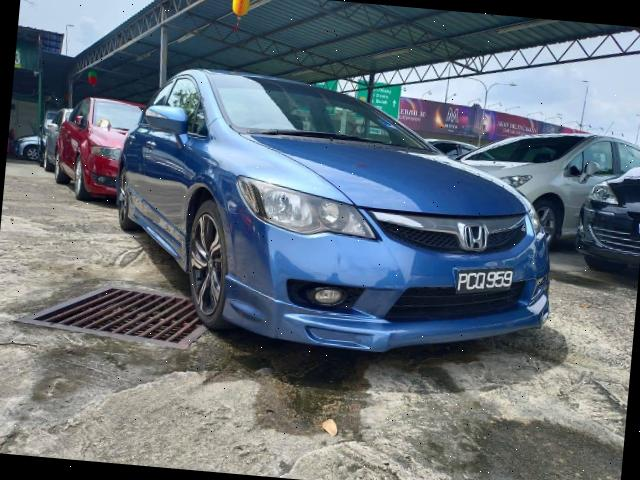License_Plate: (456, 266, 519, 297)
